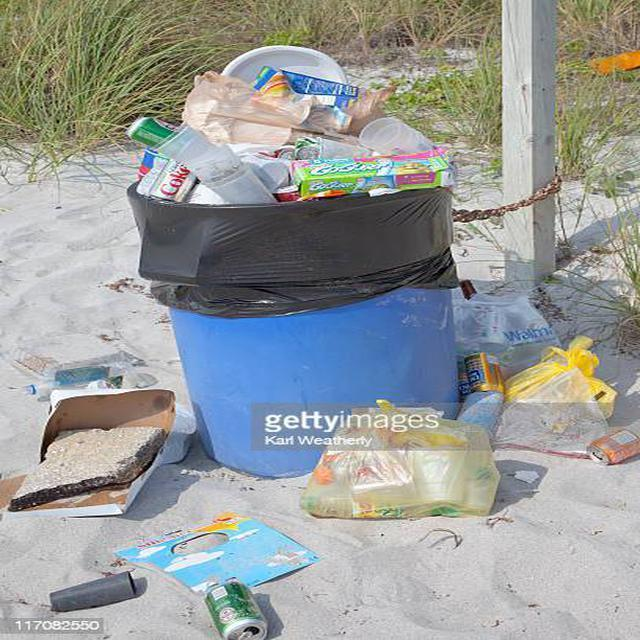garbage: (116, 69, 440, 199), (461, 320, 623, 463), (16, 364, 171, 510)
